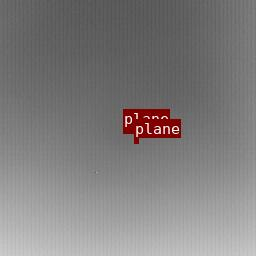plane: (123, 128, 134, 133), (134, 138, 138, 142)
